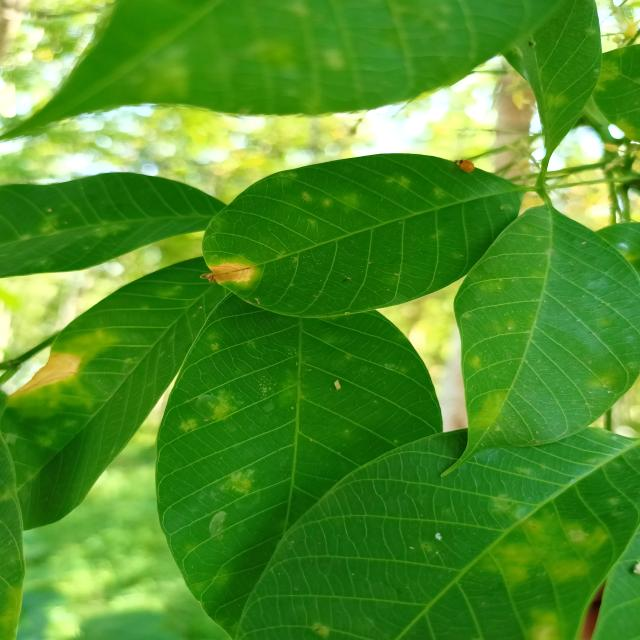Leaf-Blight: (8, 351, 82, 397), (200, 262, 255, 283)
